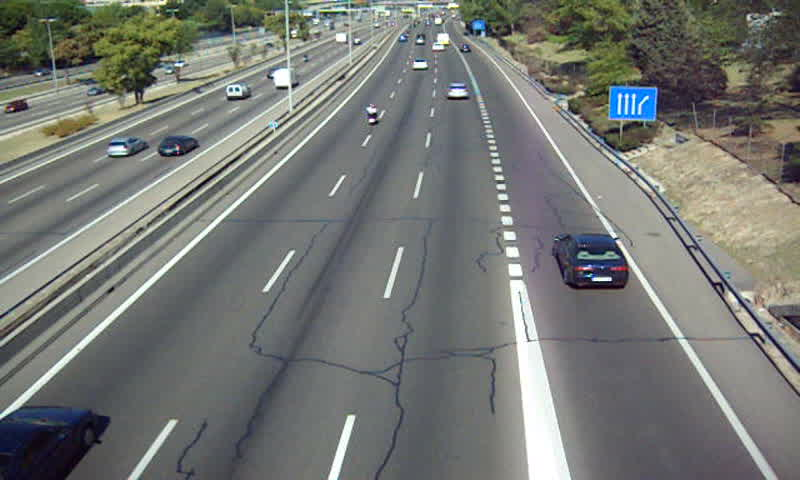car: (555, 234, 629, 287), (446, 84, 469, 99), (410, 57, 430, 71)
motorcycle: (364, 101, 380, 126)
